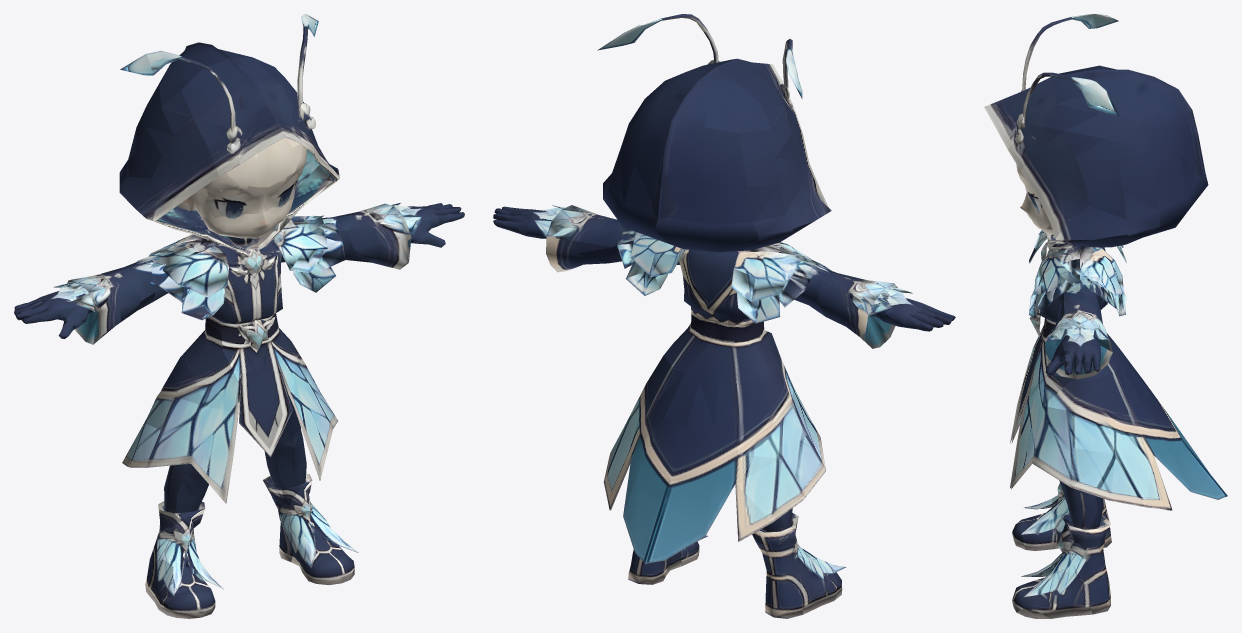
The model's file is mirrorwing_meshy.glb.
The picture shows the model from 3 angles, left to right: view 1: azimuth 30°, elevation 25°; view 2: azimuth 150°, elevation 25°; view 3: azimuth 270°, elevation 25°; orthographic projection. The views are drawn at different scales.
Bounding box in the file's own units: 1.73 × 2 × 0.8377.
Materials: 1 (1 with a texture image).
